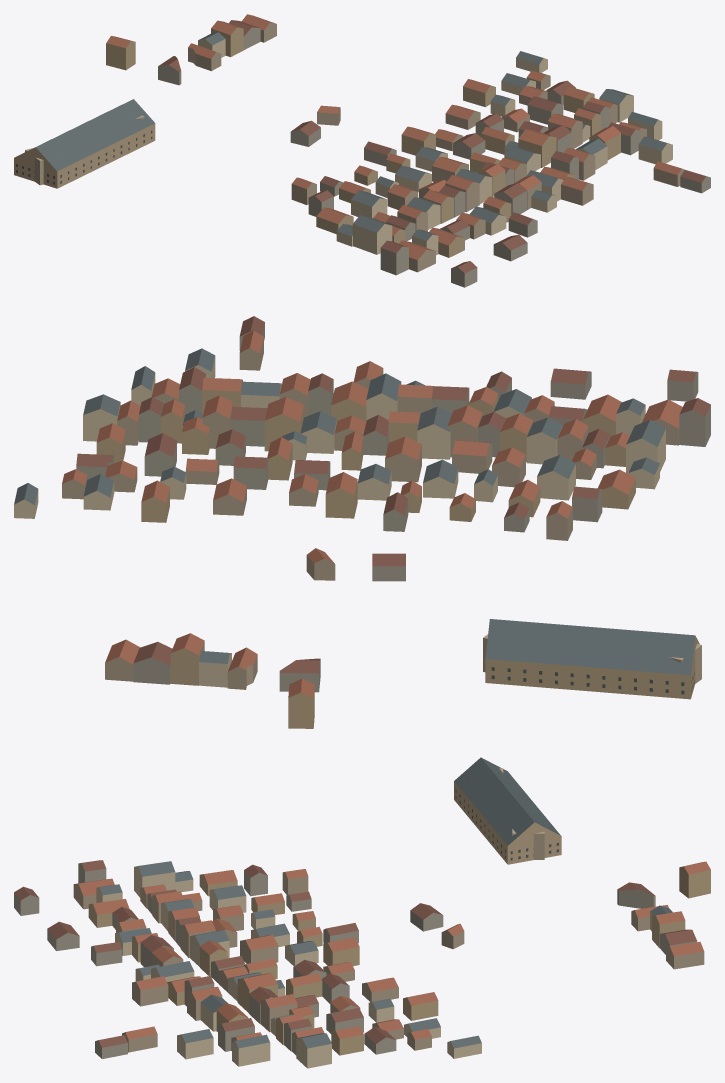
3 views of the same model, one above another, from view 1: azimuth 30°, elevation 25°; view 2: azimuth 150°, elevation 25°; view 3: azimuth 270°, elevation 25° (orthographic). The views are drawn at different scales.
Visible parts, largest first — view 1: C_-2_-2; view 2: C_-2_-2; view 3: C_-2_-2.
Part boxes in pixels (x1,y1,x2,y2): C_-2_-2: (14,14,710,287); C_-2_-2: (14,316,710,728); C_-2_-2: (14,757,710,1068).
Bounding box in the file's own units: 286 × 18.01 × 302.
